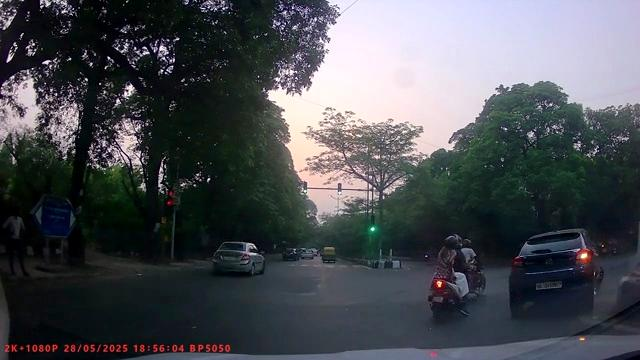passenger_with_helmet: (425, 235, 472, 323)
